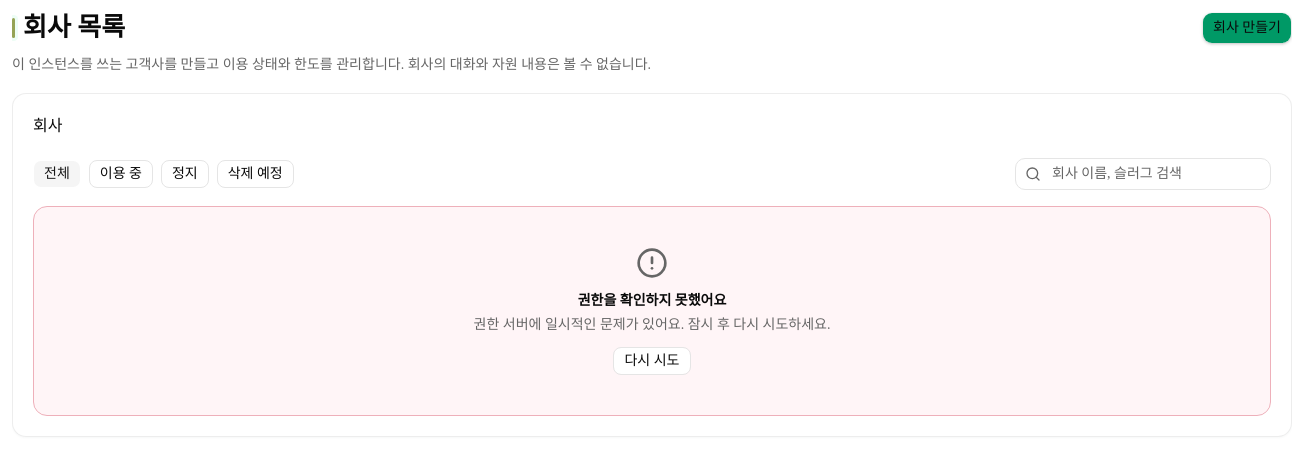
Test: TenantListContent (S03) › shows the shared error state with retry
The width and height of the screenshot is (1304, 454).
Click the button "다시 시도".
click(652, 360)  # box [614,346,690,374]
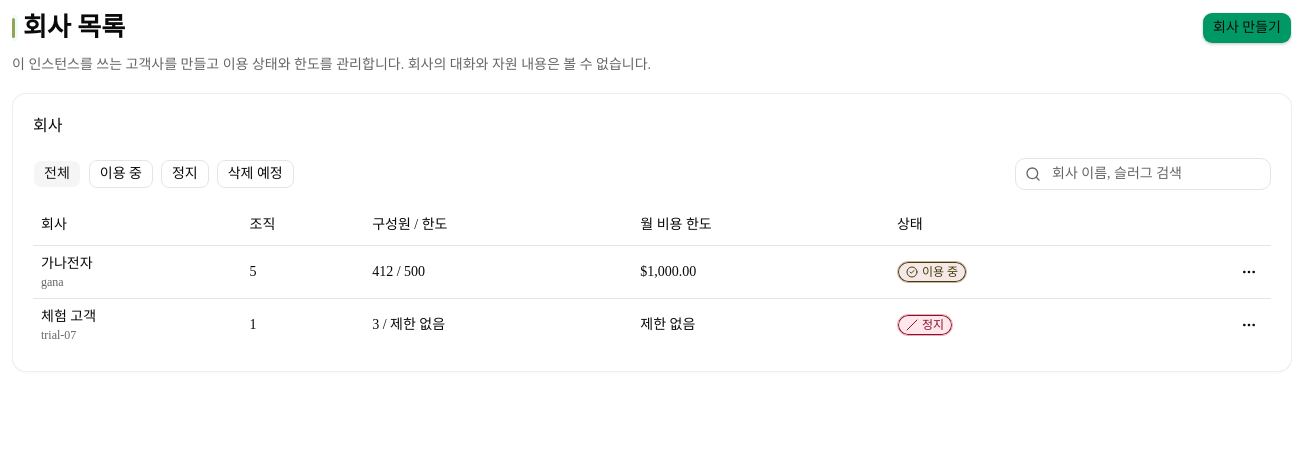
Result: the link "가나전자" is shown at [41,256,92,271]
